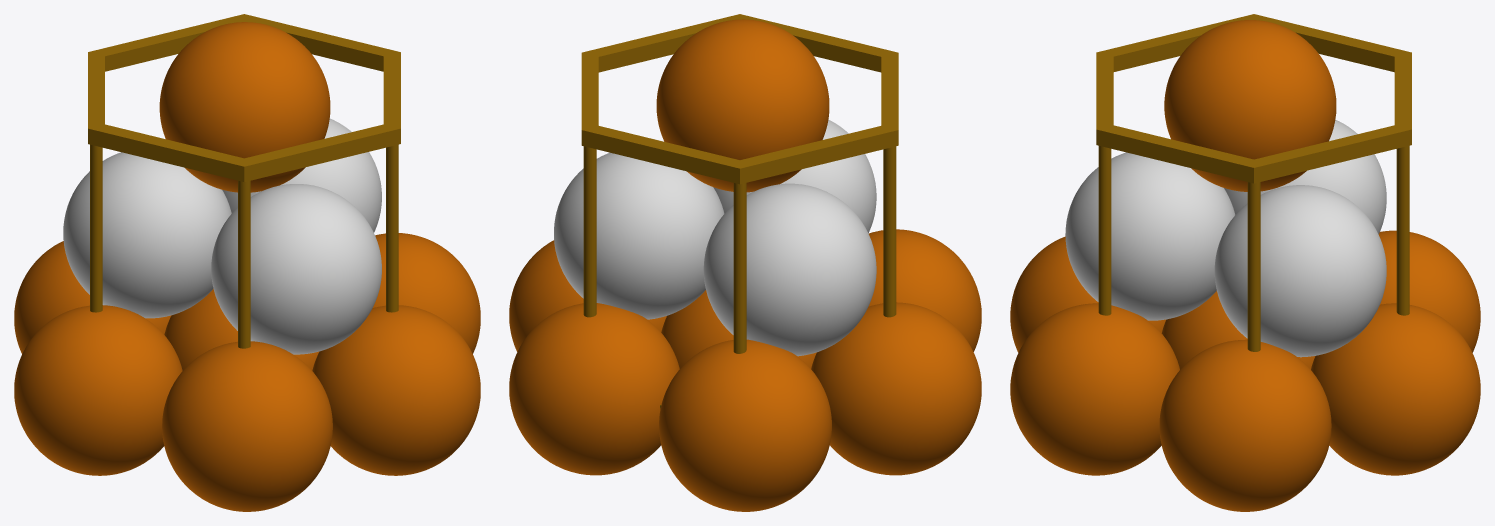
The model's file is Packing_Hex_Compressed.glb.
3 views of the same model, side by side, from view 1: azimuth 30°, elevation 25°; view 2: azimuth 150°, elevation 25°; view 3: azimuth 270°, elevation 25° (orthographic).
Visible parts, largest first — view 1: Packing_Base; view 2: Packing_Base; view 3: Packing_Base.
Part boxes in pixels (<box>): Packing_Base: <box>14,14,480,511</box>; Packing_Base: <box>509,14,981,511</box>; Packing_Base: <box>1010,14,1480,511</box>.
Bounding box in the file's own units: 1.2 × 1.03 × 1.09.
